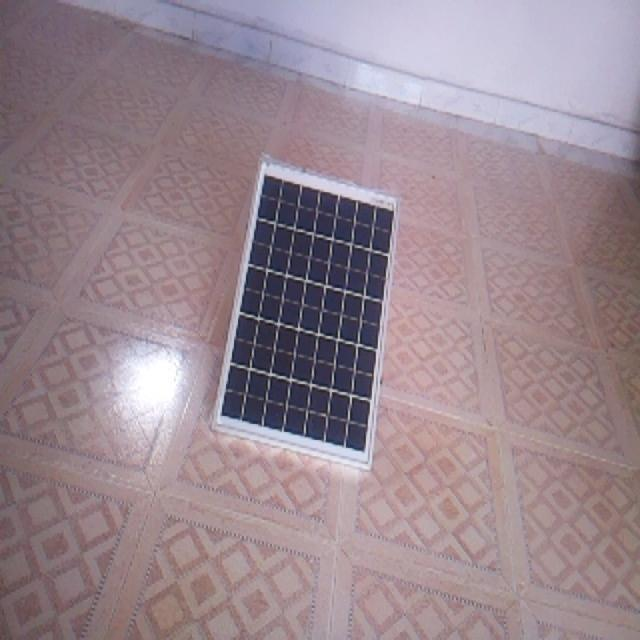Normal Solar Panel: (214, 156, 398, 469)
